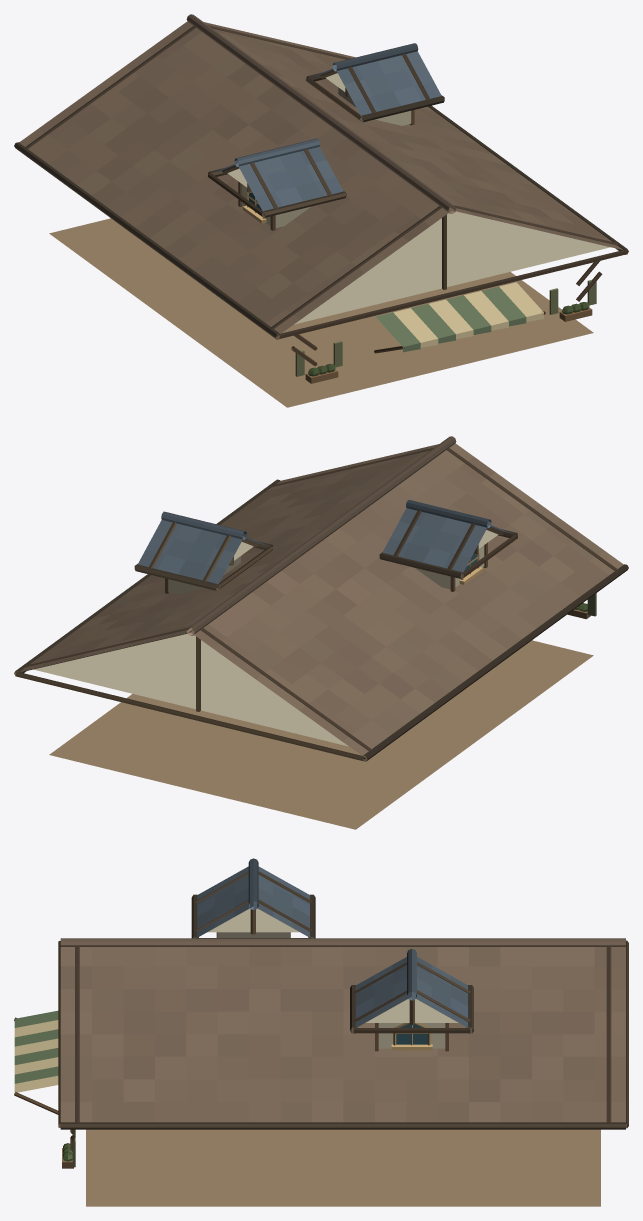
3 renders of one model, top to bottom at view 1: azimuth 30°, elevation 25°; view 2: azimuth 150°, elevation 25°; view 3: azimuth 270°, elevation 25°, orthographic. The views are drawn at different scales.
Parts seen in each view (by area): view 1: 495065f478dd7b64b3d36734430c81e2dc8c22989bab0d85663163a7dfe9; view 2: 495065f478dd7b64b3d36734430c81e2dc8c22989bab0d85663163a7dfe9; view 3: 495065f478dd7b64b3d36734430c81e2dc8c22989bab0d85663163a7dfe9.
Part boxes in pixels (box(x1,y1,x2,y2)): 495065f478dd7b64b3d36734430c81e2dc8c22989bab0d85663163a7dfe9: box(14, 14, 628, 407); 495065f478dd7b64b3d36734430c81e2dc8c22989bab0d85663163a7dfe9: box(14, 436, 628, 829); 495065f478dd7b64b3d36734430c81e2dc8c22989bab0d85663163a7dfe9: box(14, 858, 628, 1206).
Size of the model in its own units: 10.02 by 5.04 by 13.98.
Materials: 6 (1 with a texture image).
